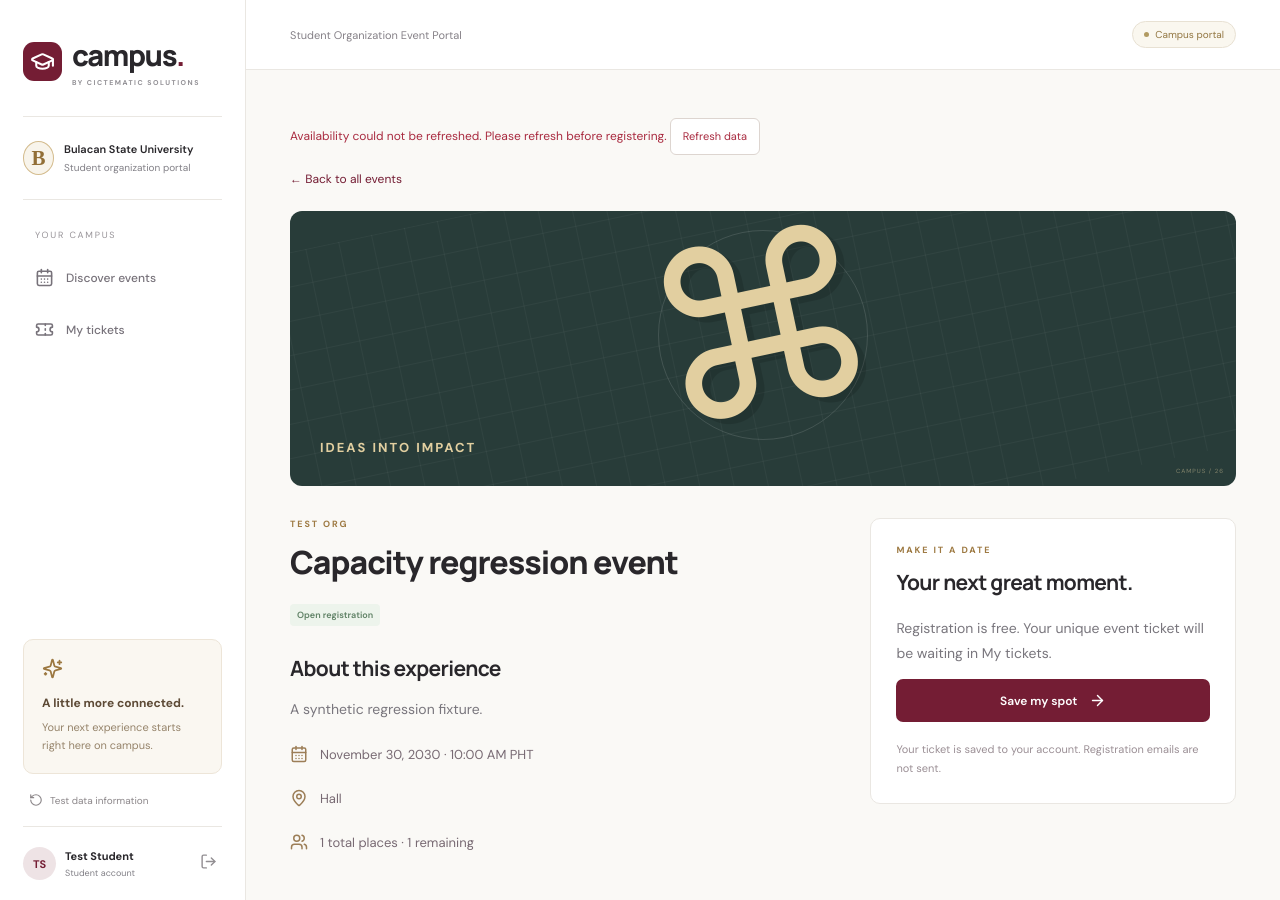
Test: shared availability refresh › keeps the session and offers recovery when background availability fails
Expected: the message with test id "availability-error" is shown, [290,118,760,155]
Expected: the button named "Log out" is shown, [195,848,222,880]
What coordinates should you click on to do the following:
click the button "Refresh data"
I would click on:
 (715, 137)
Its box is [670,118,760,155].
Wait 1 ms
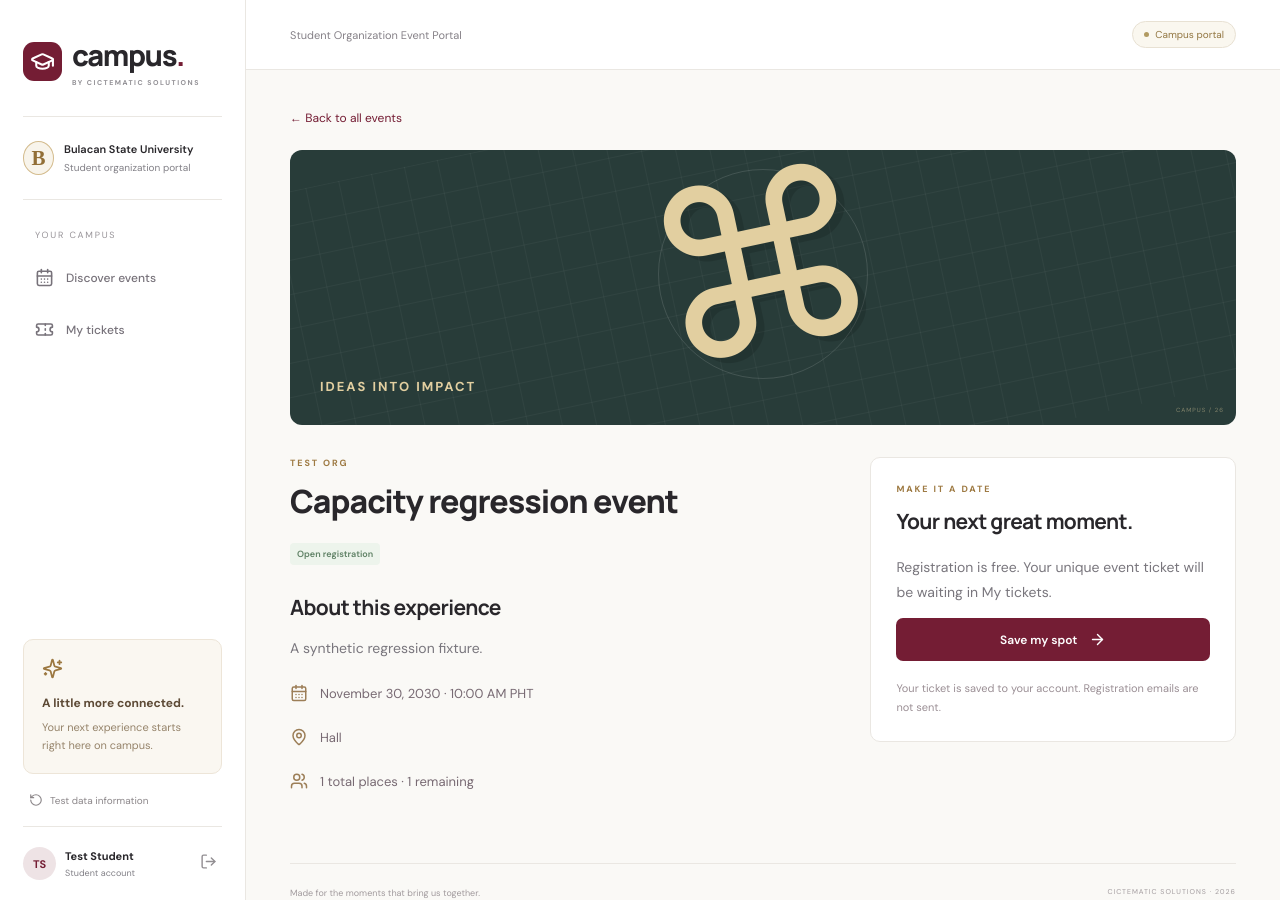
Result: the message with test id "availability-error" is gone
